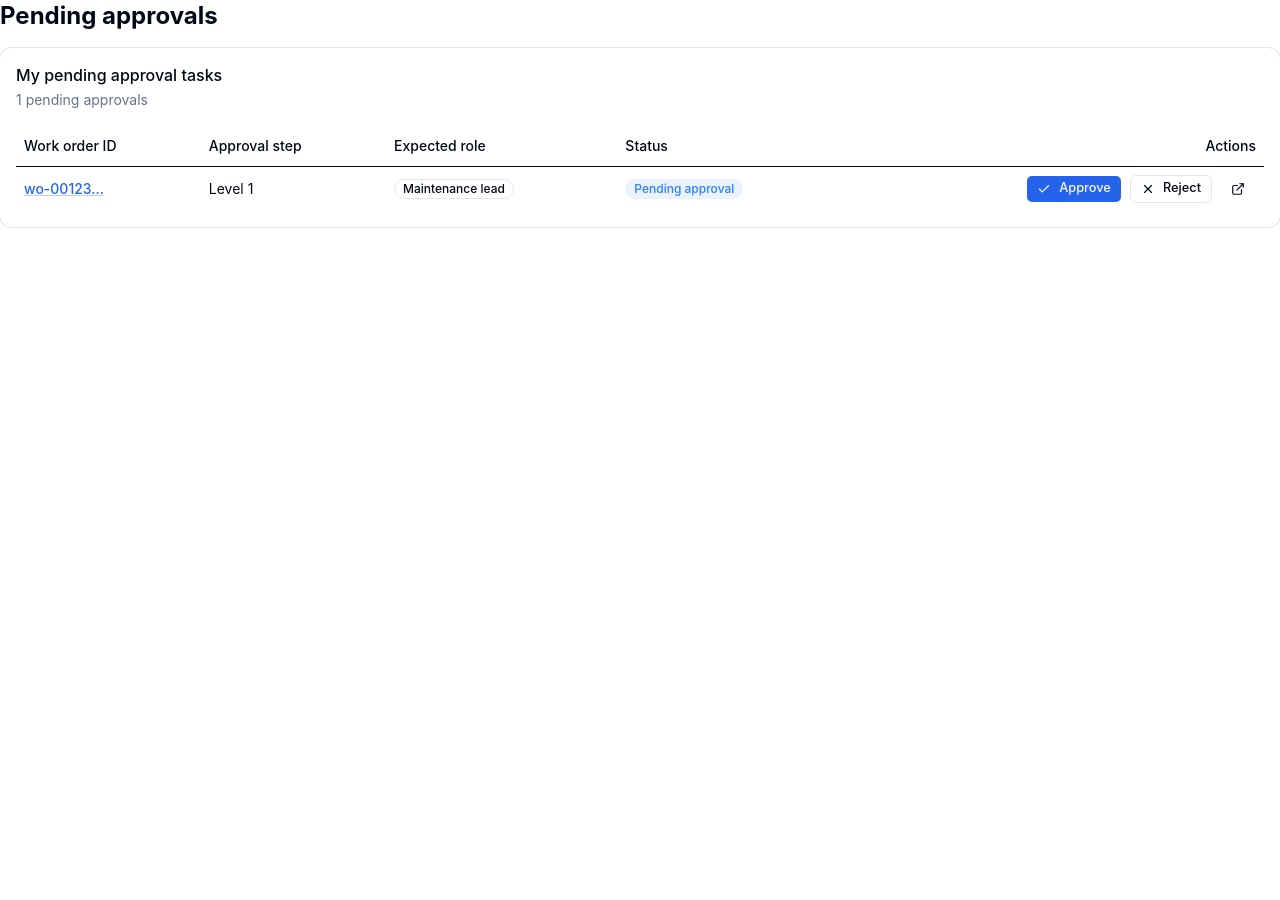
Test: PendingApprovalsPage › 点击驳回按钮应打开驳回对话框
The width and height of the screenshot is (1280, 900).
有两个 Reject 文本（行内和对话框按钮），取第一个
Click the button "Reject" at (1171, 188), box [1130,174,1212,202]
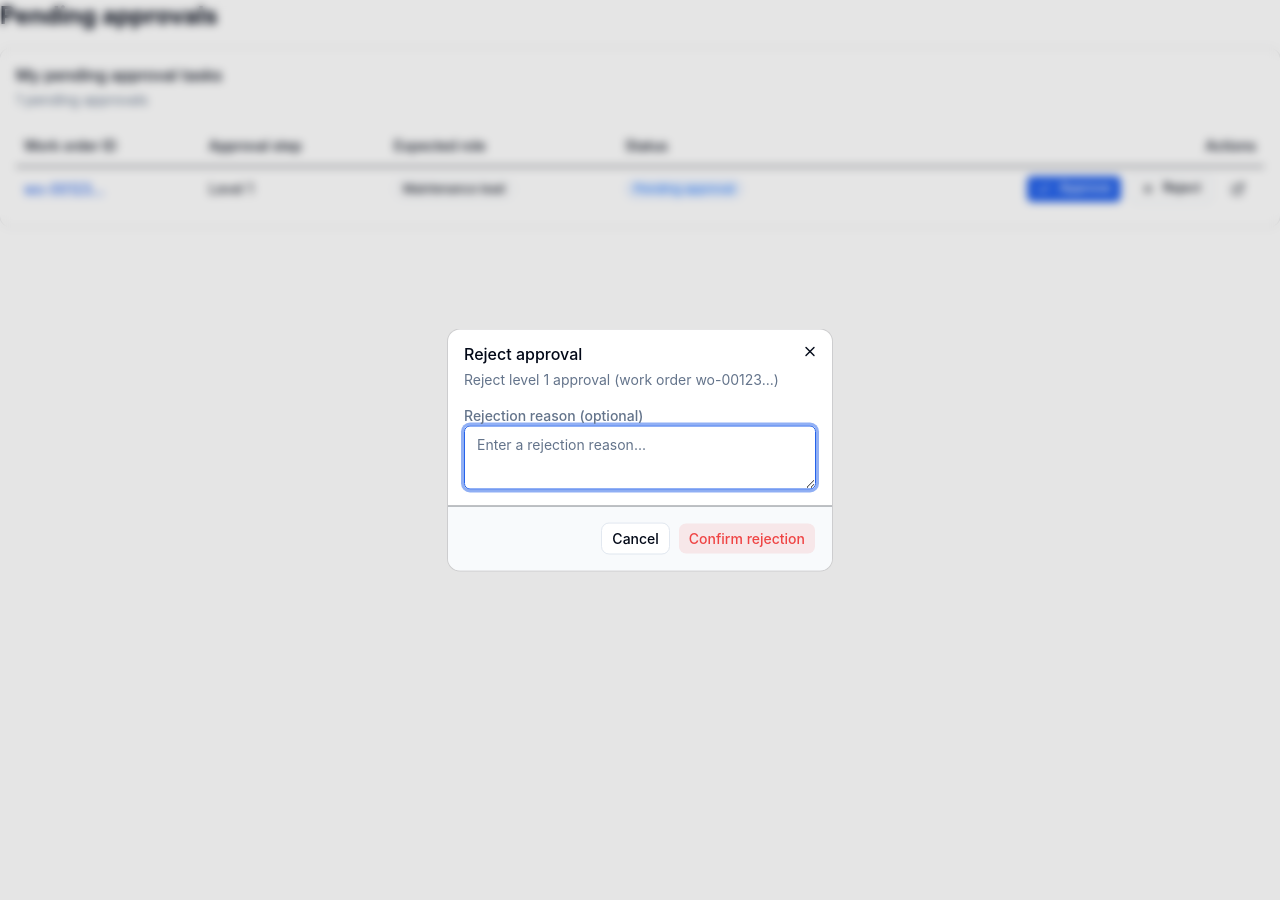
Now the heading "Reject approval" is shown, box [464,344,582,364]
Now the button "Confirm rejection" is shown, box [678,522,816,554]
